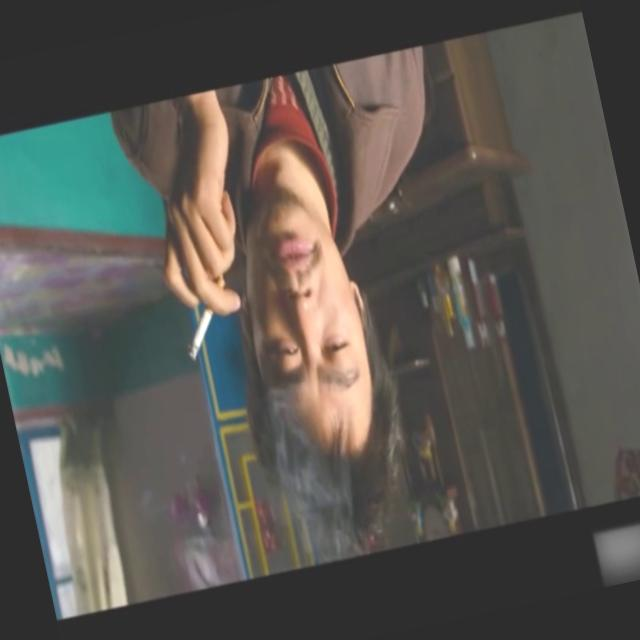cigarette: (172, 274, 242, 363)
